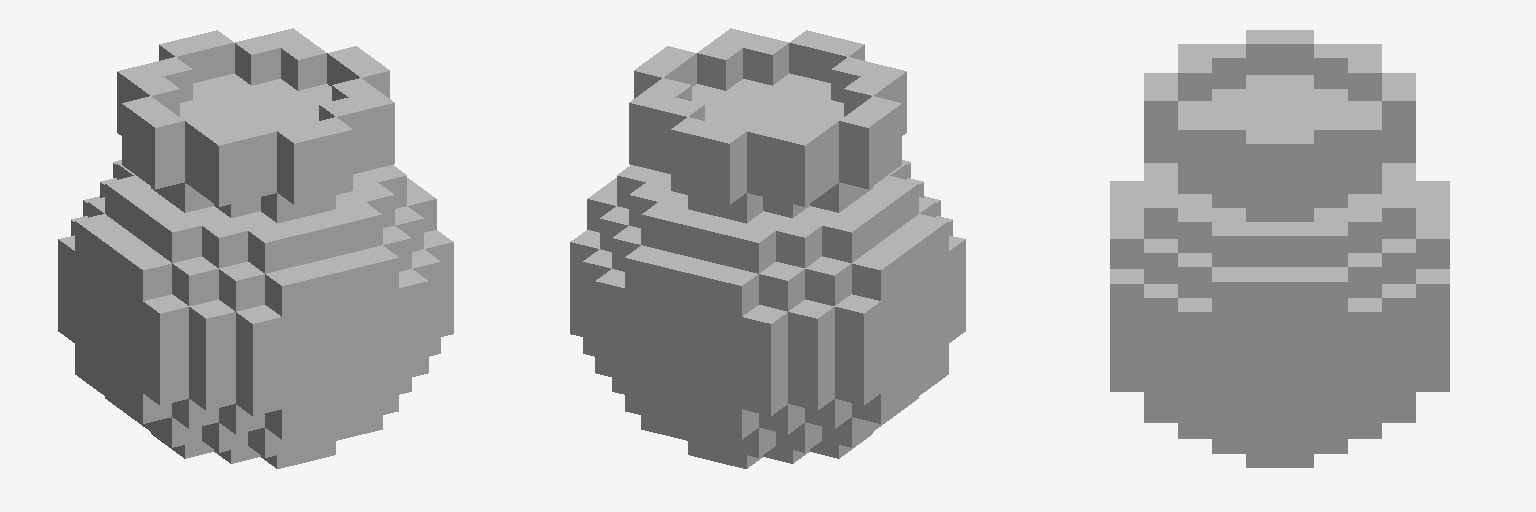
Rendered from pot.obj.
The picture shows the model from 3 angles: view 1: azimuth 30°, elevation 25°; view 2: azimuth 150°, elevation 25°; view 3: azimuth 270°, elevation 25°; orthographic projection.
Parts seen in each view (by area): view 1: object 1; view 2: object 1; view 3: object 1.
Part boxes in pixels (x1,y1,x2,y2): object 1: (58,28,453,468); object 1: (570,28,965,468); object 1: (1110,30,1449,467).
Size of the model in its own units: 1 by 1.1 by 1.